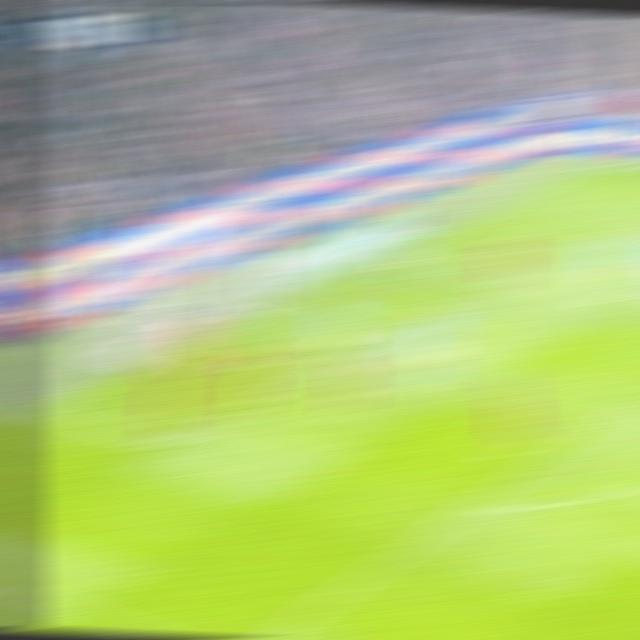bigarea_top_outter: (443, 217, 479, 229)
bottom_arc_area_intersection: (449, 498, 489, 517)
corner: (581, 158, 616, 166)
smallarea_bottom_inner: (143, 434, 183, 455)
smallarea_bottom_outter: (23, 399, 63, 420)
smallarea_top_inner: (415, 304, 449, 315)
smallarea_top_outter: (310, 276, 347, 290)
